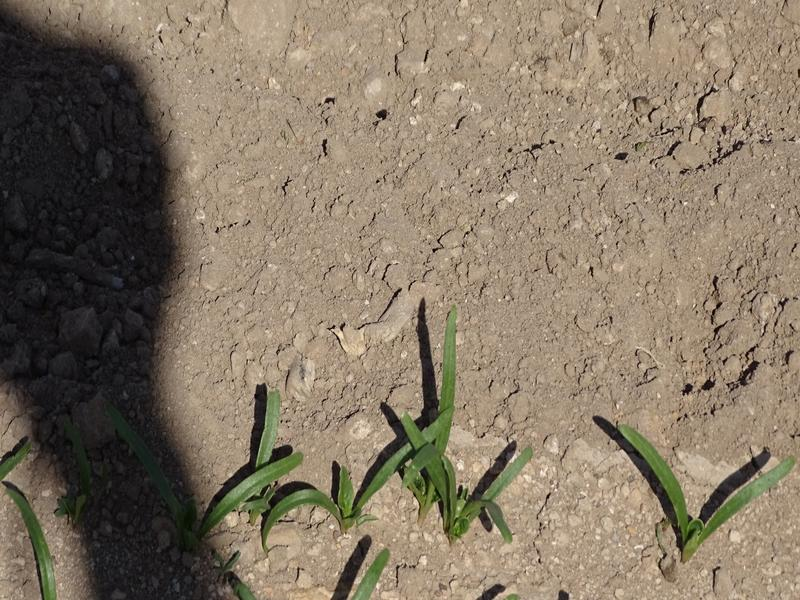Espinaca: (199, 312, 533, 534), (618, 428, 797, 565), (11, 483, 61, 593)
